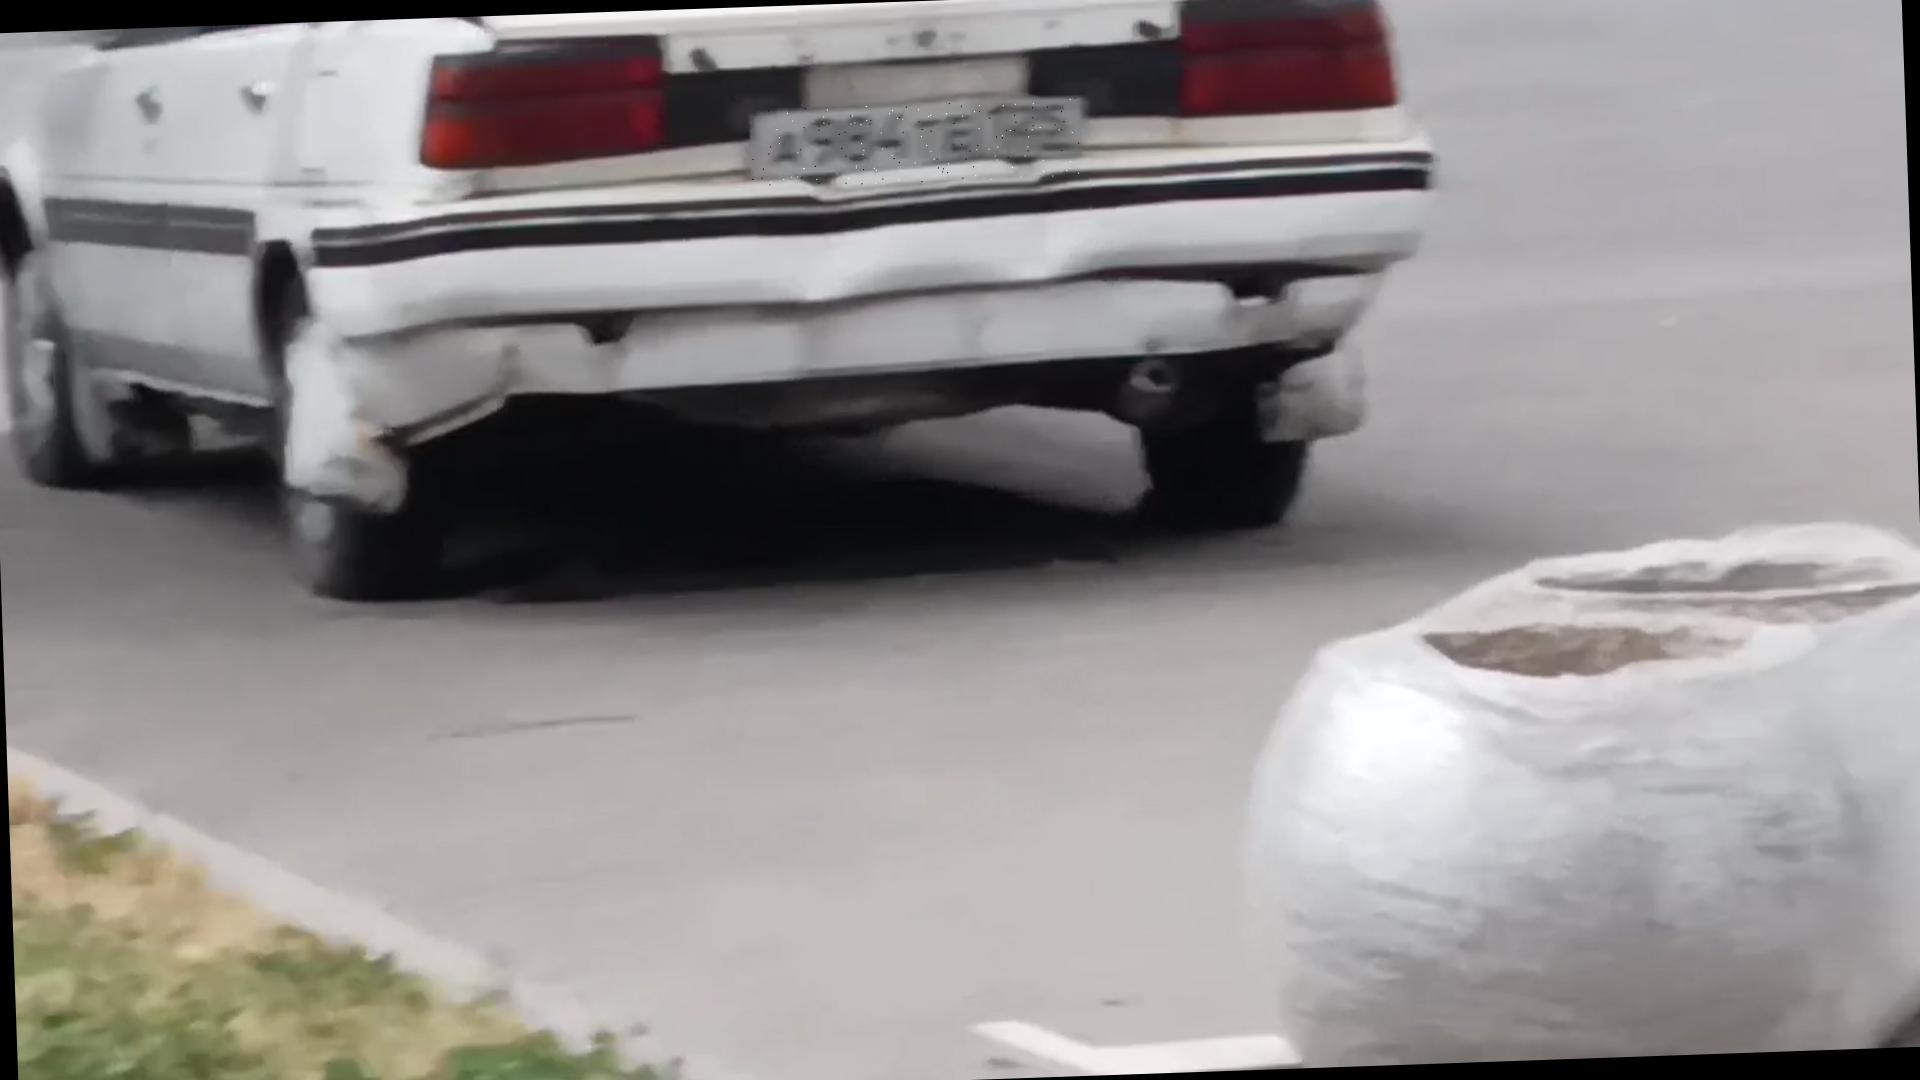plate: (751, 99, 1083, 191)
